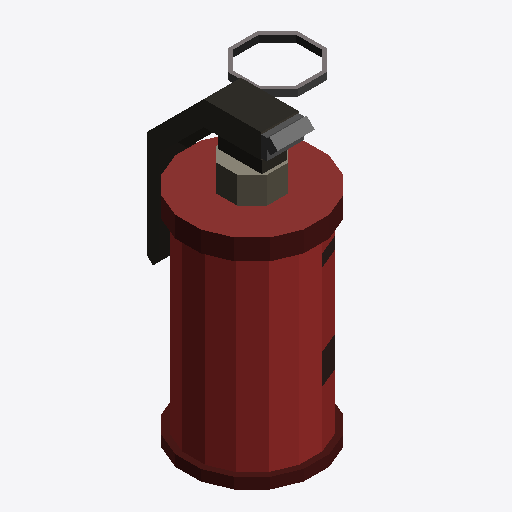
Isometric view (azimuth 45°, elevation 35.3°) of a Minecraft model made of 46 cuboids, textured from the same repository.
Visible parts, largest first — hexadecagon (×18), octagon (×9).
Part boxes in pixels (left/top/right/bottom): hexadecagon (×18): left=161, top=137, right=342, bottom=489; octagon (×9): left=147, top=78, right=314, bottom=261.
Size of the model in its own units: 4.08 by 7.38 by 3.88.